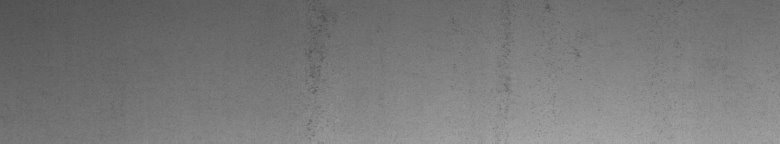ib: (498, 4, 581, 92)
